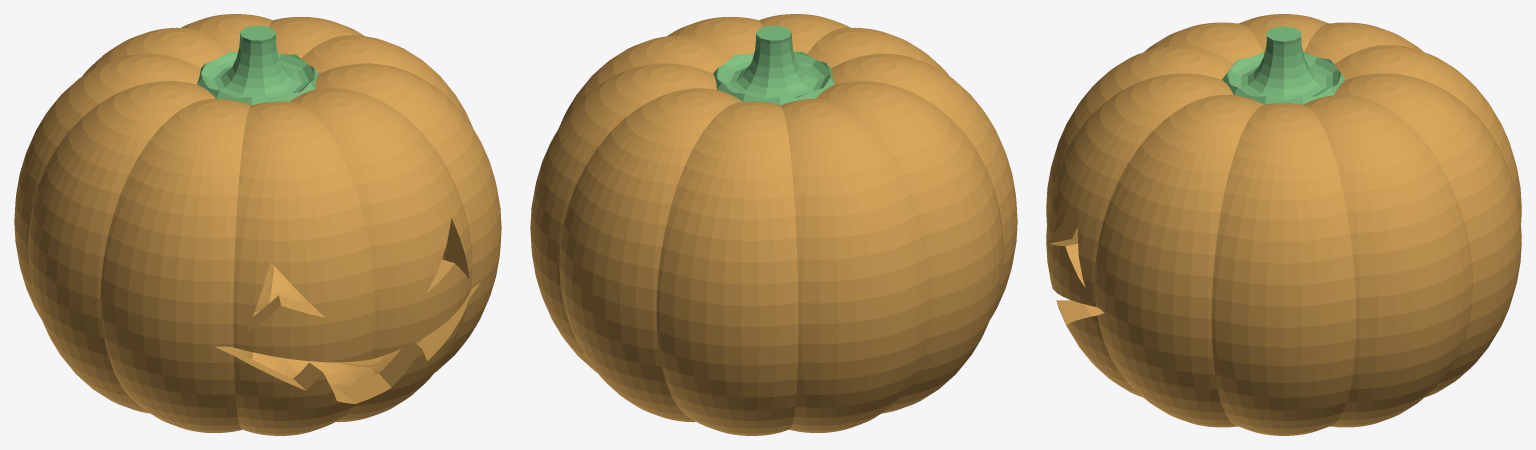
File: Funky Kieran-Trug.glb
3 renders of one model, left to right at view 1: azimuth 30°, elevation 25°; view 2: azimuth 150°, elevation 25°; view 3: azimuth 270°, elevation 25°, orthographic.
Visible parts, largest first — view 1: Mesh_Mesh_head_geo.001_lambert2SG.001; view 2: Mesh_Mesh_head_geo.001_lambert2SG.001; view 3: Mesh_Mesh_head_geo.001_lambert2SG.001.
Boxes of the visible parts, x1=… form: Mesh_Mesh_head_geo.001_lambert2SG.001: x1=14, y1=14, x2=501, y2=435; Mesh_Mesh_head_geo.001_lambert2SG.001: x1=530, y1=14, x2=1017, y2=435; Mesh_Mesh_head_geo.001_lambert2SG.001: x1=1046, y1=14, x2=1521, y2=435.
Size of the model in its own units: 30 by 23.6 by 29.34.
